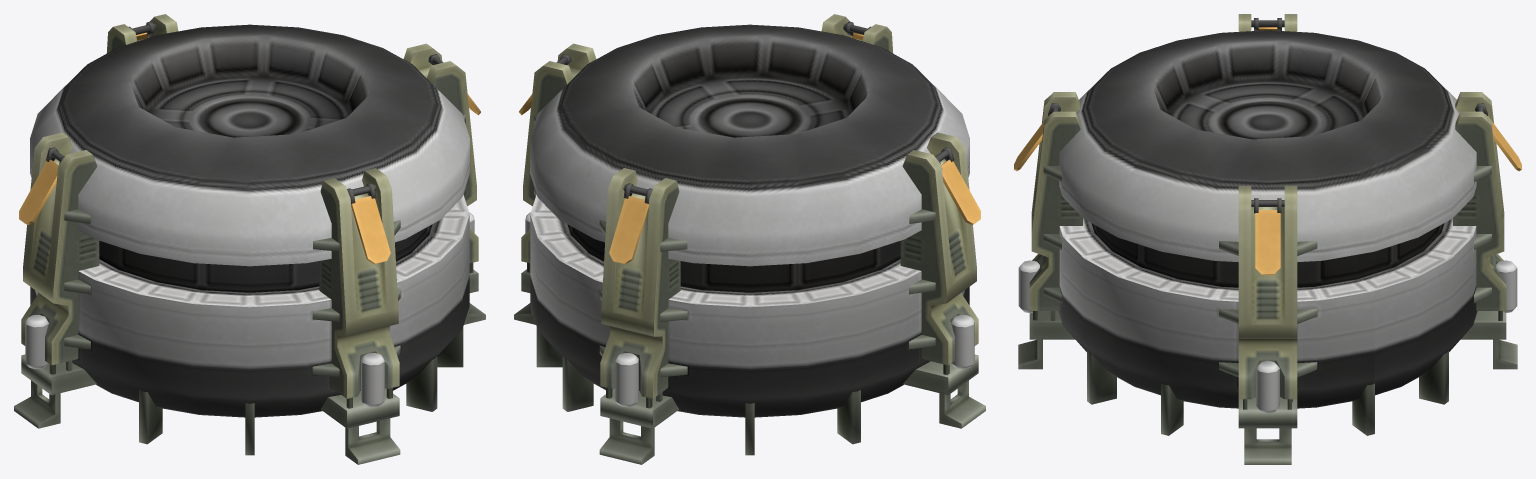
Rendered from POC.FBX.
3 renders of one model, left to right at view 1: azimuth 30°, elevation 25°; view 2: azimuth 150°, elevation 25°; view 3: azimuth 270°, elevation 25°, orthographic. The views are drawn at different scales.
Visible parts, largest first — view 1: POC; view 2: POC; view 3: POC.
Part boxes in pixels (bbox=[...]): POC: bbox=[14, 14, 485, 464]; POC: bbox=[514, 14, 985, 464]; POC: bbox=[1014, 14, 1521, 464].
Bounding box in the file's own units: 1792 × 1048 × 1792.
